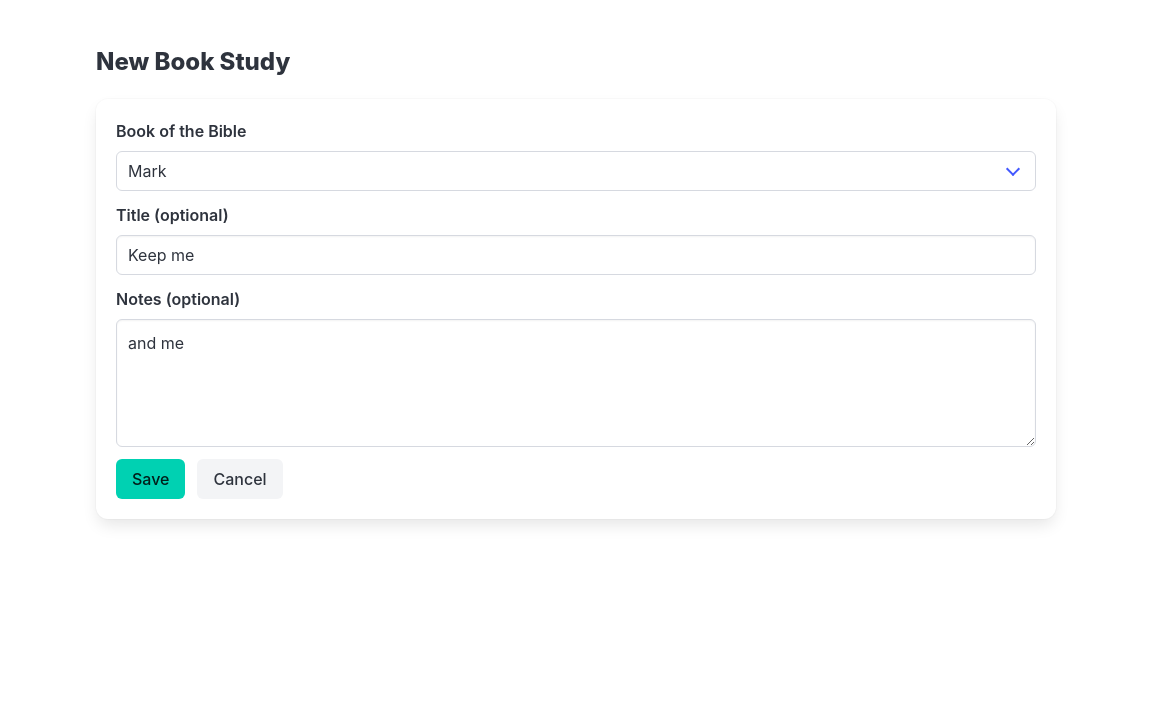
Test case: BookStudyFormComponent › should preserve input and show an error when create fails
The image size is (1152, 720).
Click the button with test id "save-button": (151, 479) [116, 459, 186, 499]
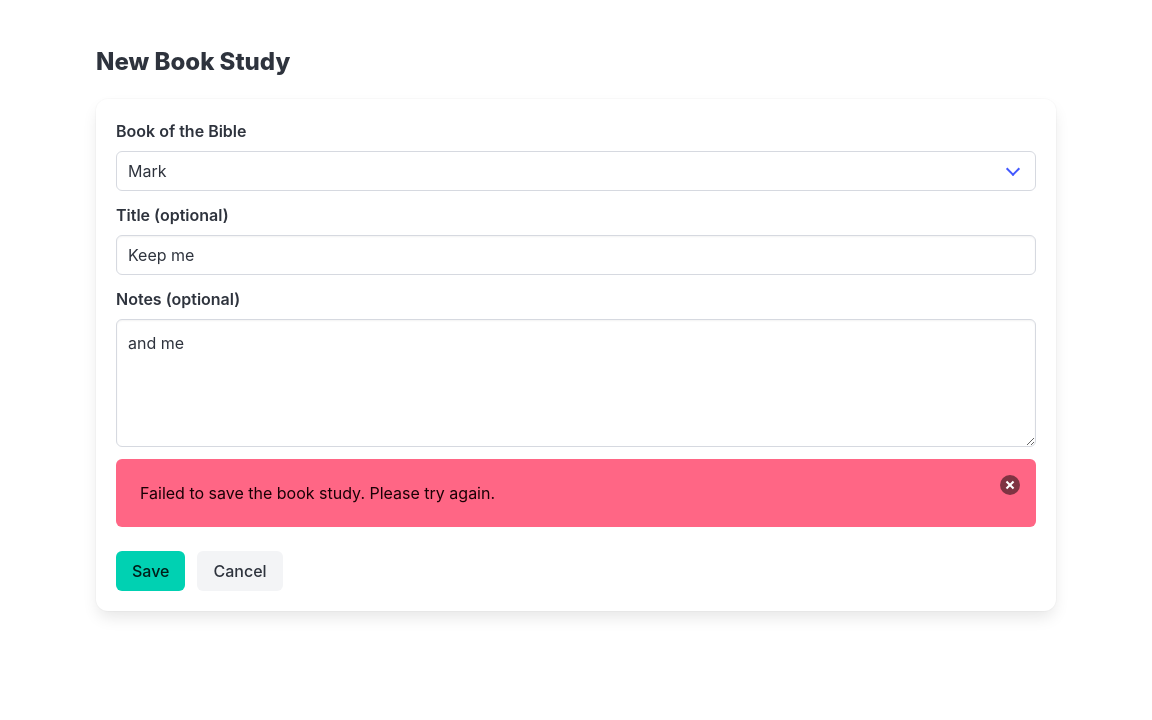
Expected: the message "Failed to save the book study. Please try again." is shown, [116, 459, 1036, 527]
